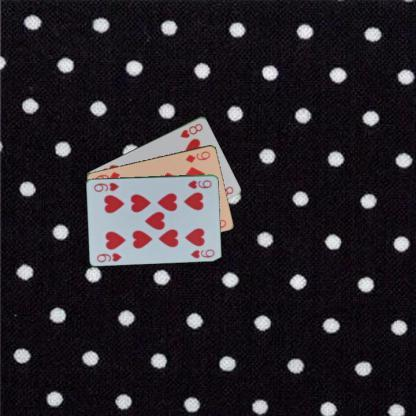8h: (178, 121, 204, 140)
9d: (183, 148, 212, 164)
9h: (94, 250, 123, 264), (186, 178, 212, 190)
